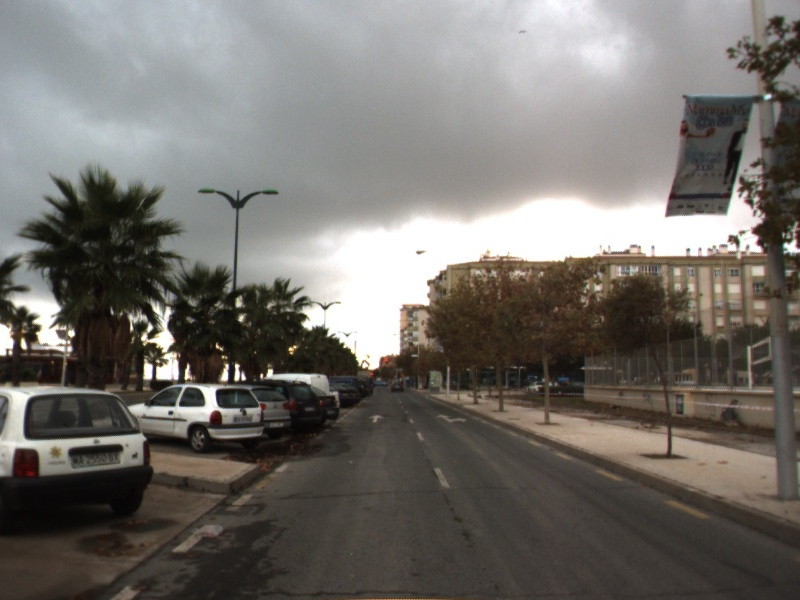STRAIGHT: (367, 413, 386, 424)
STRAIGHT_RIGHT: (435, 412, 468, 424)
